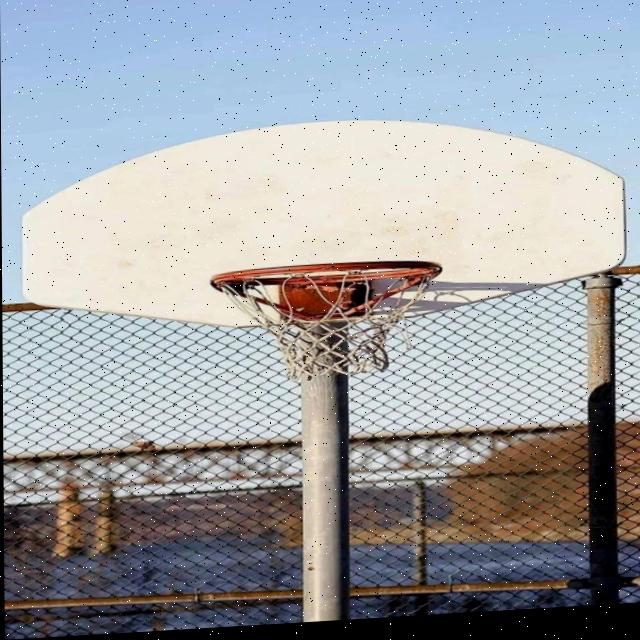hoop: (190, 254, 473, 401)
